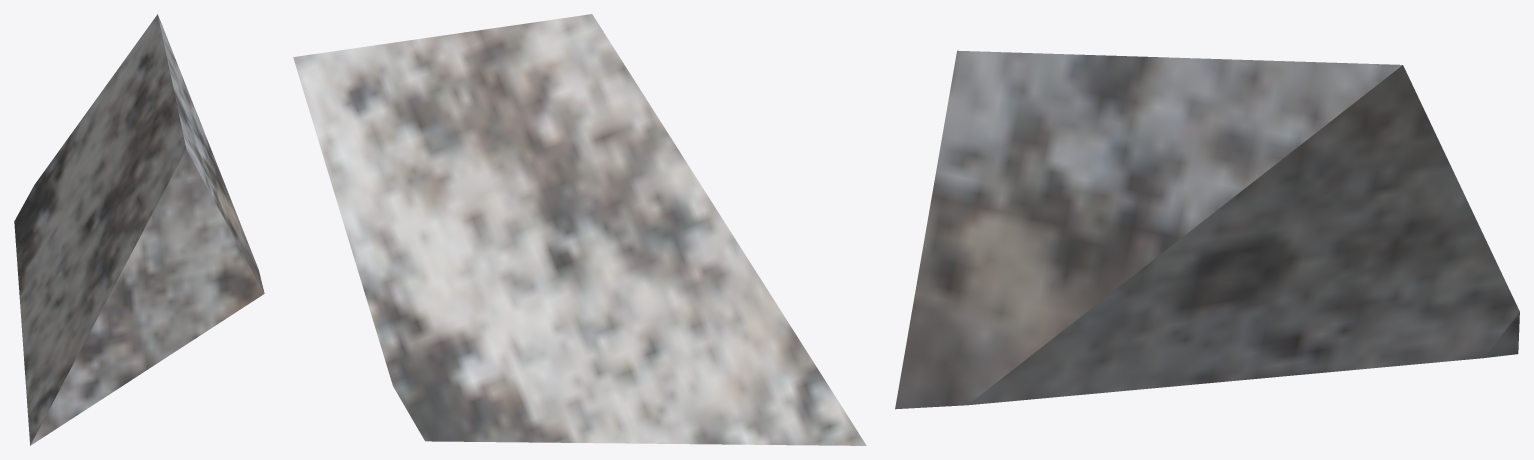
Rendered from Asteroid_Large_001_02_001_03_023.fbx.
3 renders of one model, left to right at view 1: azimuth 30°, elevation 25°; view 2: azimuth 150°, elevation 25°; view 3: azimuth 270°, elevation 25°, orthographic. The views are drawn at different scales.
Parts seen in each view (by area): view 1: Asteroid_Large_001_02_001_03_023; view 2: Asteroid_Large_001_02_001_03_023; view 3: Asteroid_Large_001_02_001_03_023.
Part boxes in pixels (x1,y1,x2,y2): Asteroid_Large_001_02_001_03_023: (14,14,264,445); Asteroid_Large_001_02_001_03_023: (293,14,866,445); Asteroid_Large_001_02_001_03_023: (895,50,1519,409).
Bounding box in the file's own units: 2.29 × 2.46 × 2.47.
